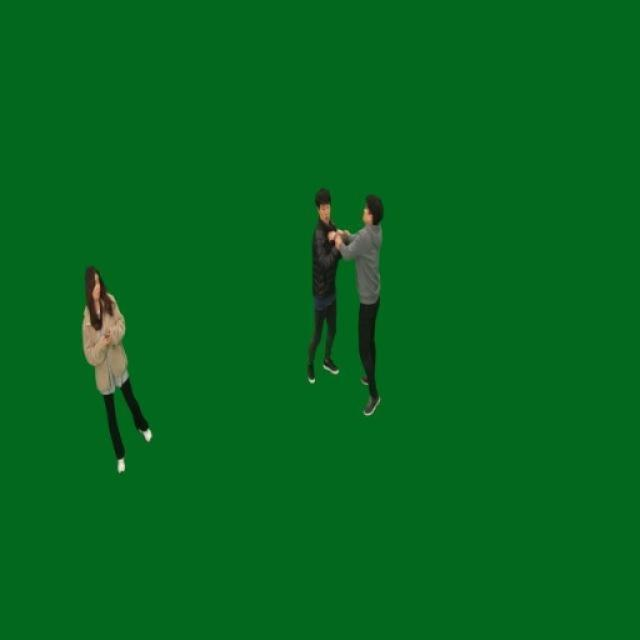non-violence: (78, 262, 155, 472)
violence: (310, 188, 385, 418)
